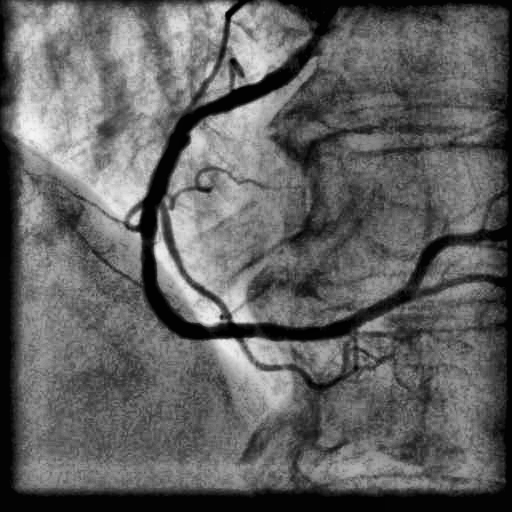pborca: (409, 229, 507, 286)
pda: (415, 273, 503, 296)
rca: (139, 44, 416, 341)
